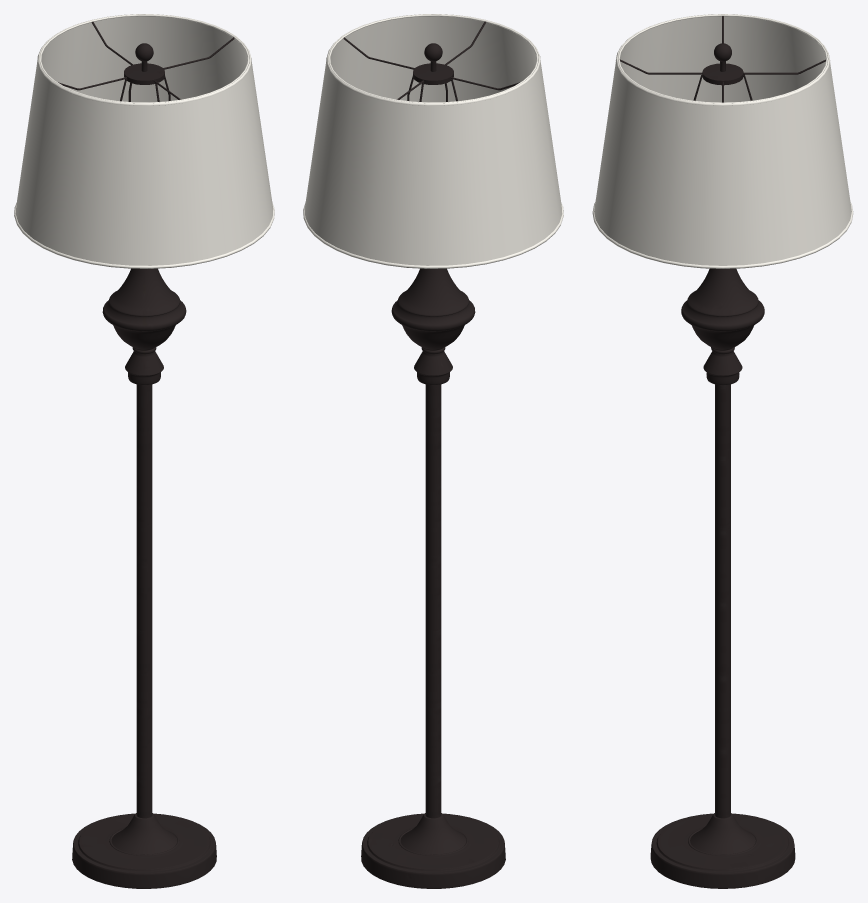
File: abo-B07DBH531B.glb
3 renders of one model, left to right at view 1: azimuth 30°, elevation 25°; view 2: azimuth 150°, elevation 25°; view 3: azimuth 270°, elevation 25°, orthographic.
Bounding box in the file's own units: 0.431 × 1.48 × 0.431.
1 material, 1 textured.
